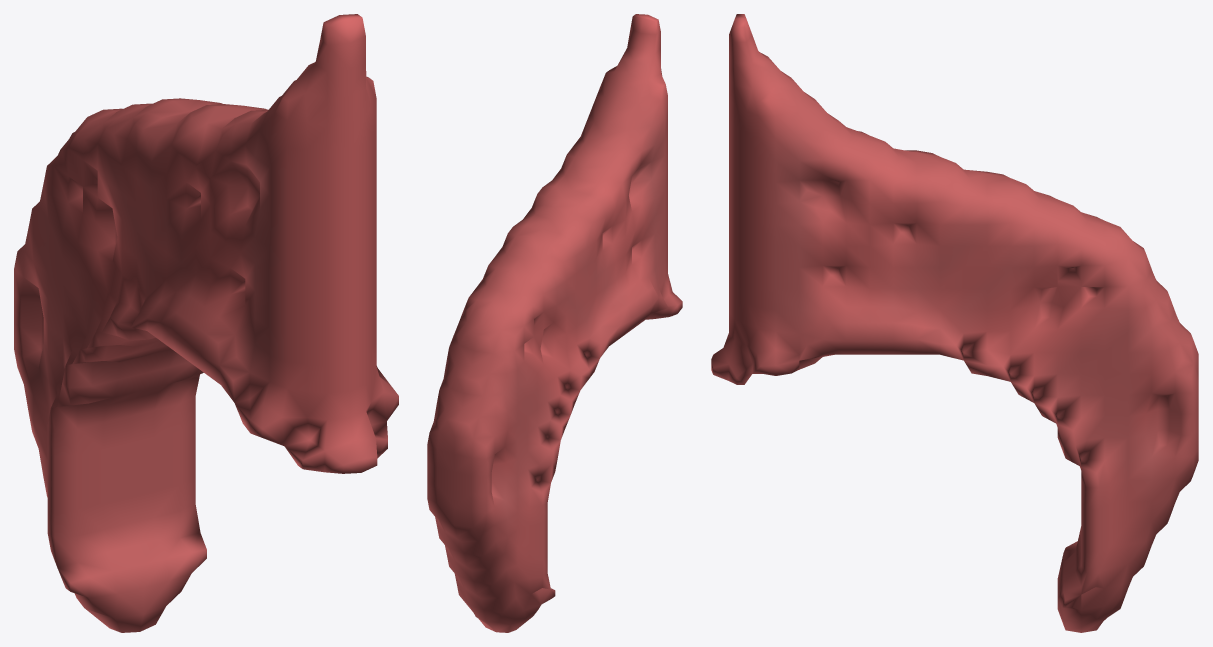
The picture shows the model from 3 angles, left to right: view 1: azimuth 30°, elevation 25°; view 2: azimuth 150°, elevation 25°; view 3: azimuth 270°, elevation 25°; orthographic projection. The views are drawn at different scales.
Bounding box in the file's own units: 0.3 × 1.44 × 1.04.
